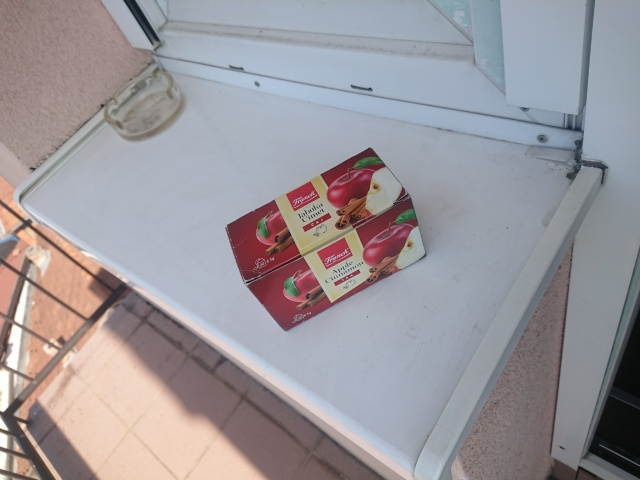Franck Apple Cinnamon Tea 60g: (222, 144, 429, 332)
